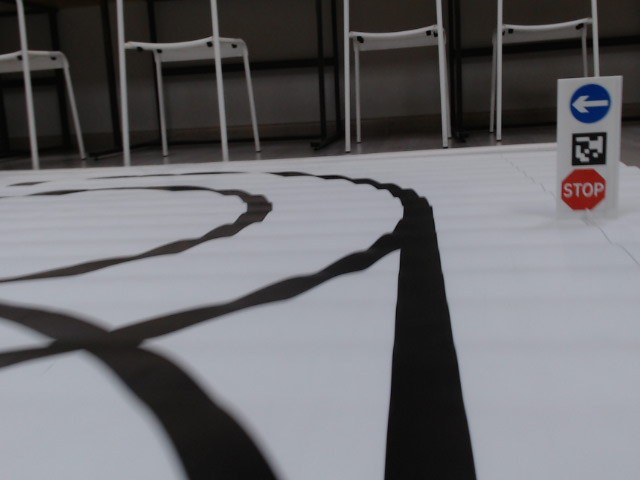Stop: (559, 168, 607, 210)
